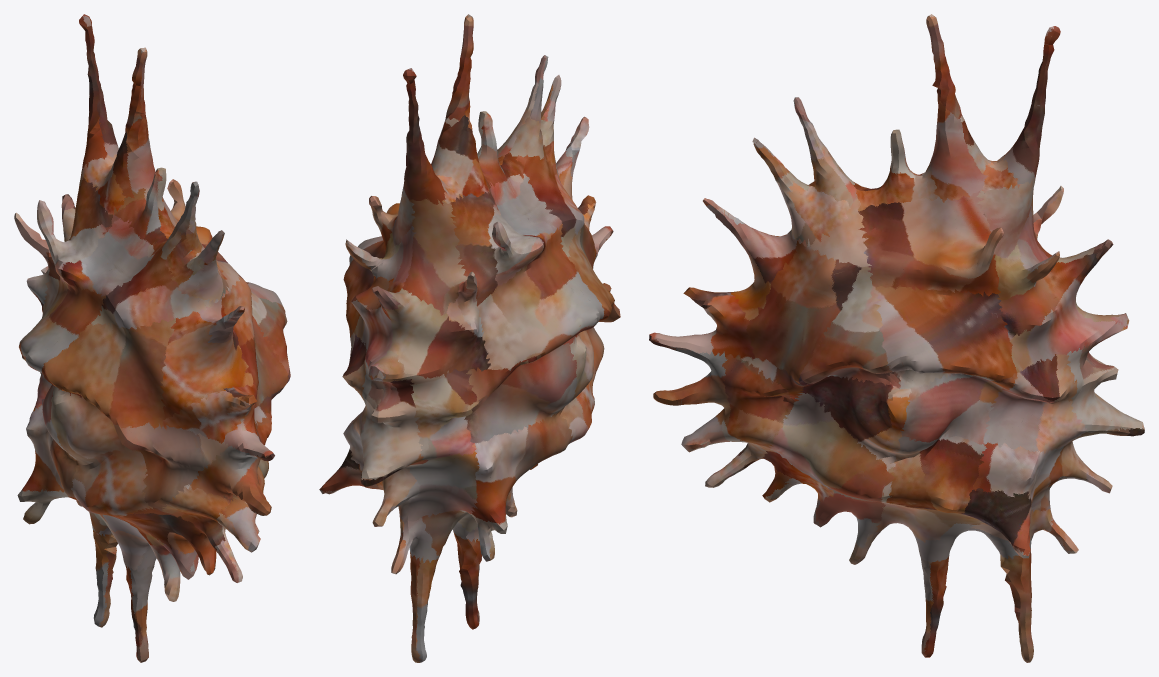
File: eye.glb
3 renders of one model, left to right at view 1: azimuth 30°, elevation 25°; view 2: azimuth 150°, elevation 25°; view 3: azimuth 270°, elevation 25°, orthographic. The views are drawn at different scales.
Parts seen in each view (by area): view 1: geometry_0.001; view 2: geometry_0.001; view 3: geometry_0.001.
Part boxes in pixels (x1,y1,x2,y2): geometry_0.001: (14,14,290,662); geometry_0.001: (319,14,620,662); geometry_0.001: (649,14,1144,662).
Size of the model in its own units: 0.3839 by 0.9135 by 0.6355.
1 material, 1 textured.
